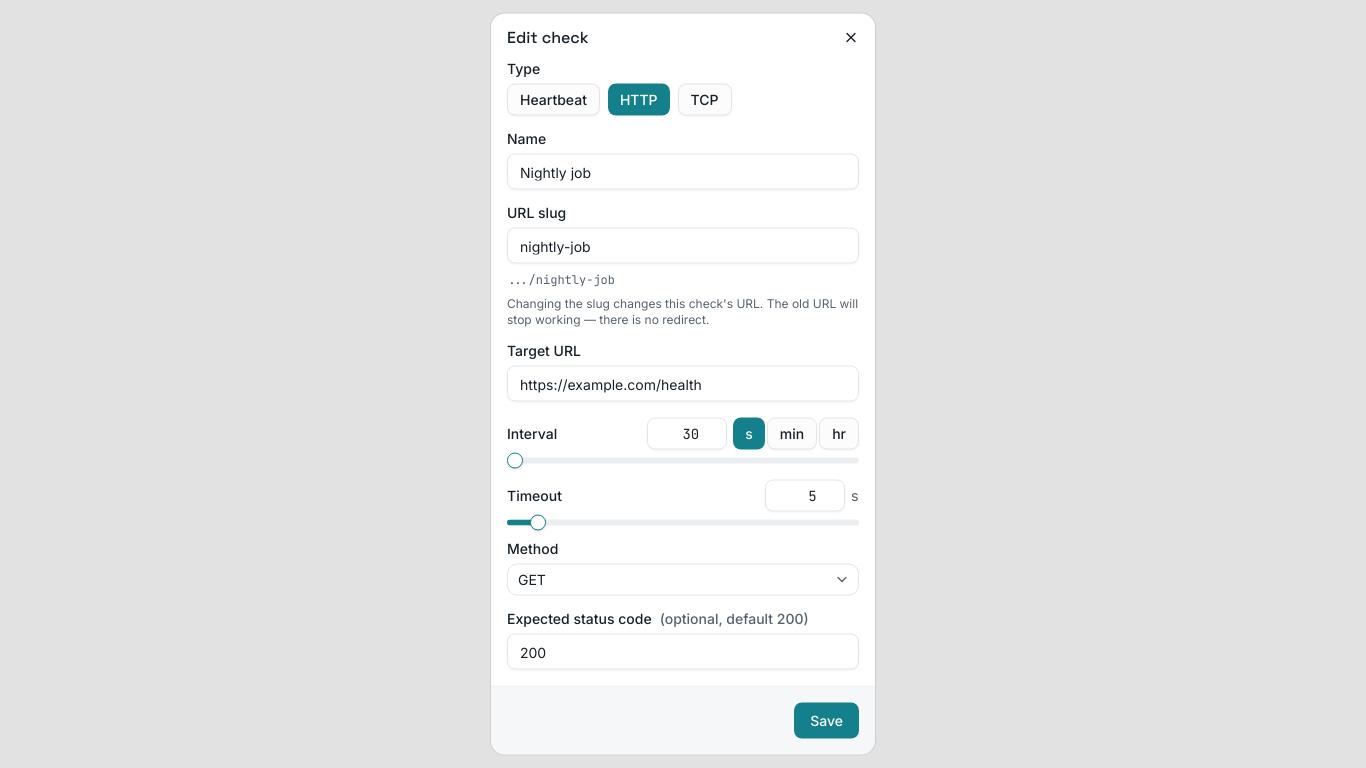
it: EditCheckDialog › rejects a changed grandfathered cadence below the paid plan floor
Expected: the button "Save" is enabled, [794,702,859,738]
Replace the text in the number field labelled "Interval" with "45" at (687, 434), box [647,418,727,450]
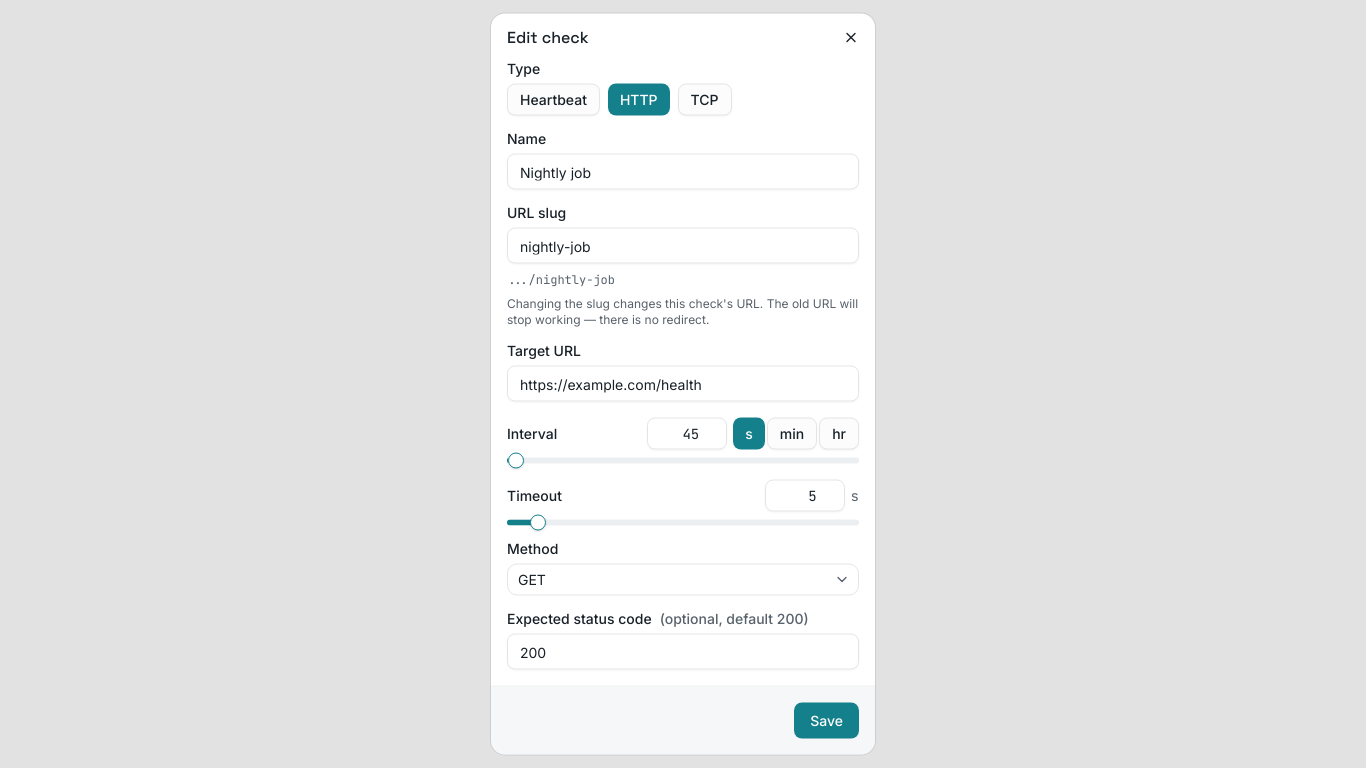
Submit the form, box [507,62,859,738]
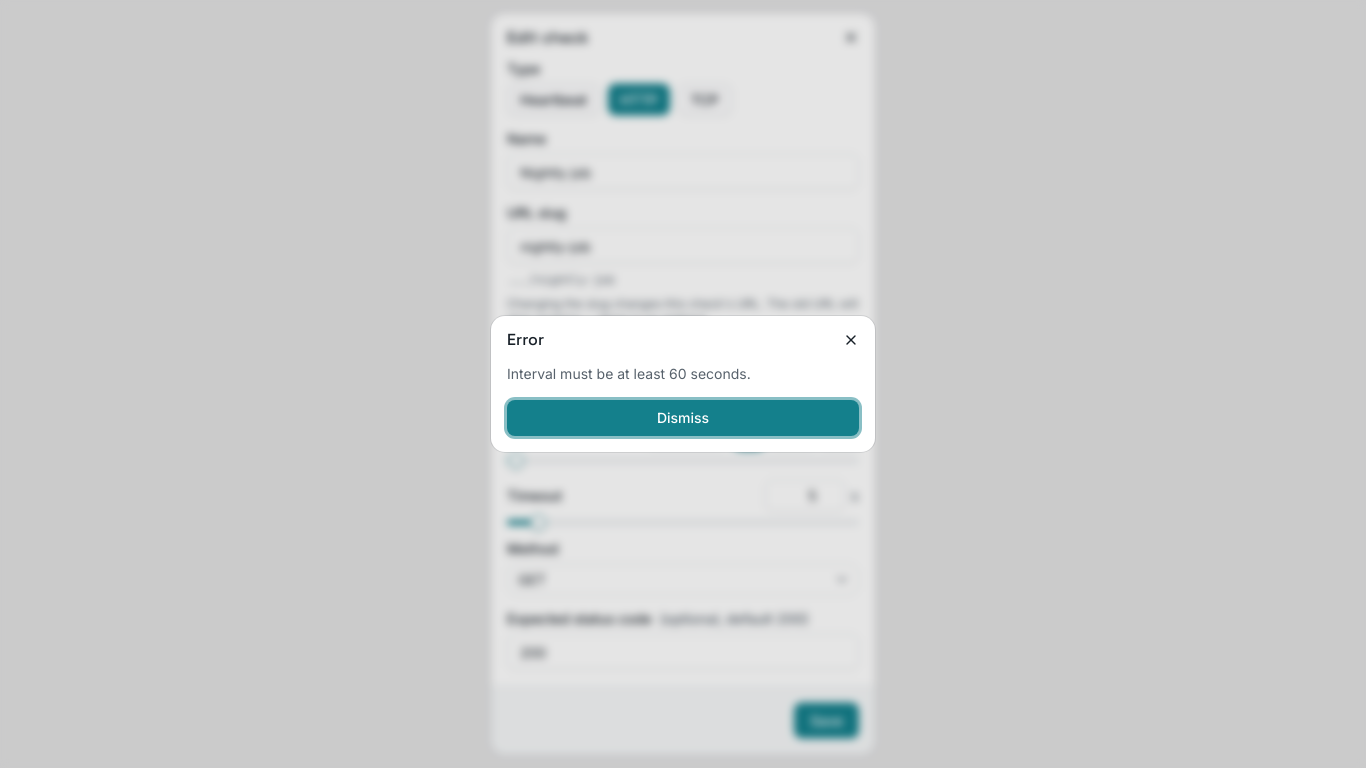
Expected: the text "Interval must be at least 60 seconds." is shown, [507,365,751,382]
